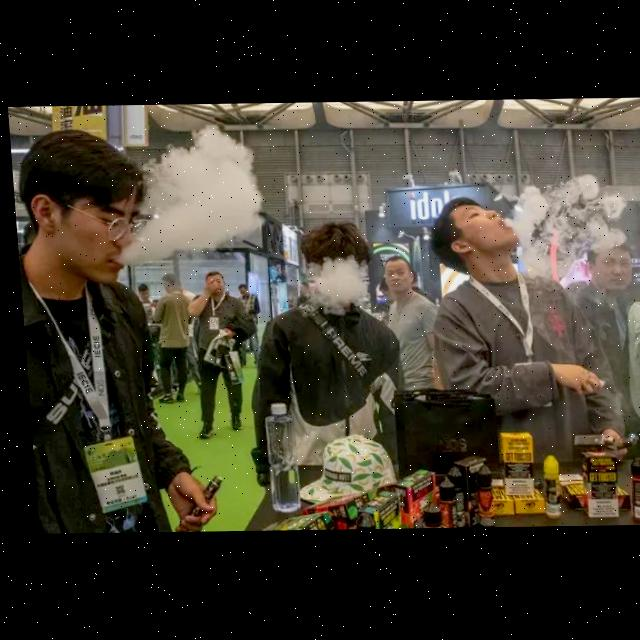vape: (181, 476, 217, 516), (565, 435, 609, 452), (608, 435, 633, 449)
